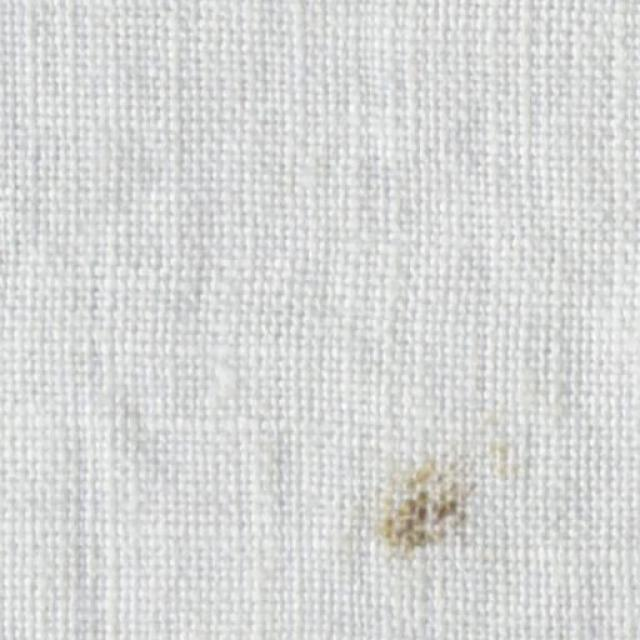Stain: (375, 440, 506, 549)
